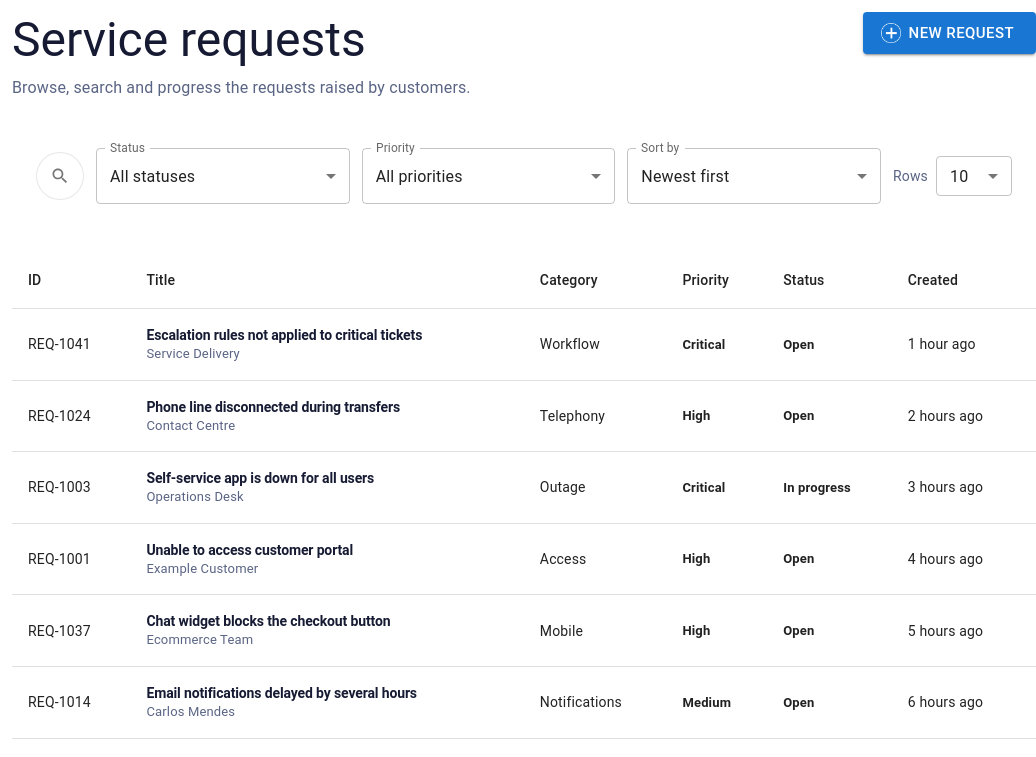
Test: accessibility › has no violations on the request list, including the expanded search
Expected: the text "REQ-1001" is shown, [12,523,130,595]
# The collapsed search field is a second state of the same screen.
Click the button named "Search requests".
click(60, 176)  # box [36,152,84,200]
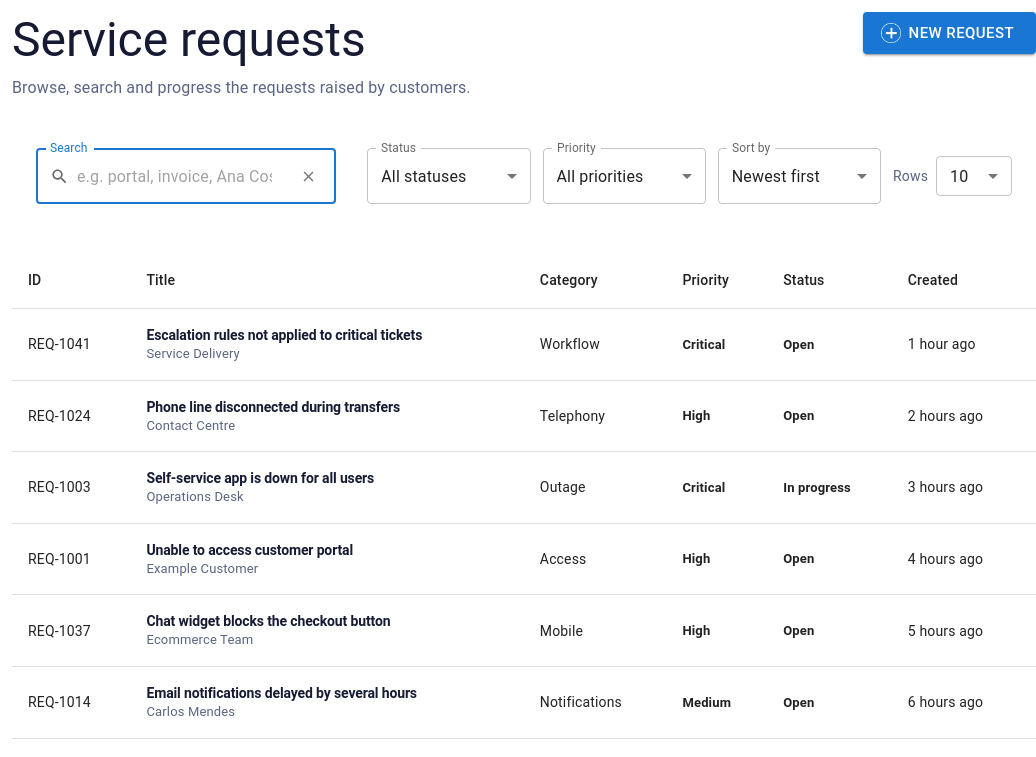
Result: the search field labelled "Search" is shown at [77,148,287,204]
